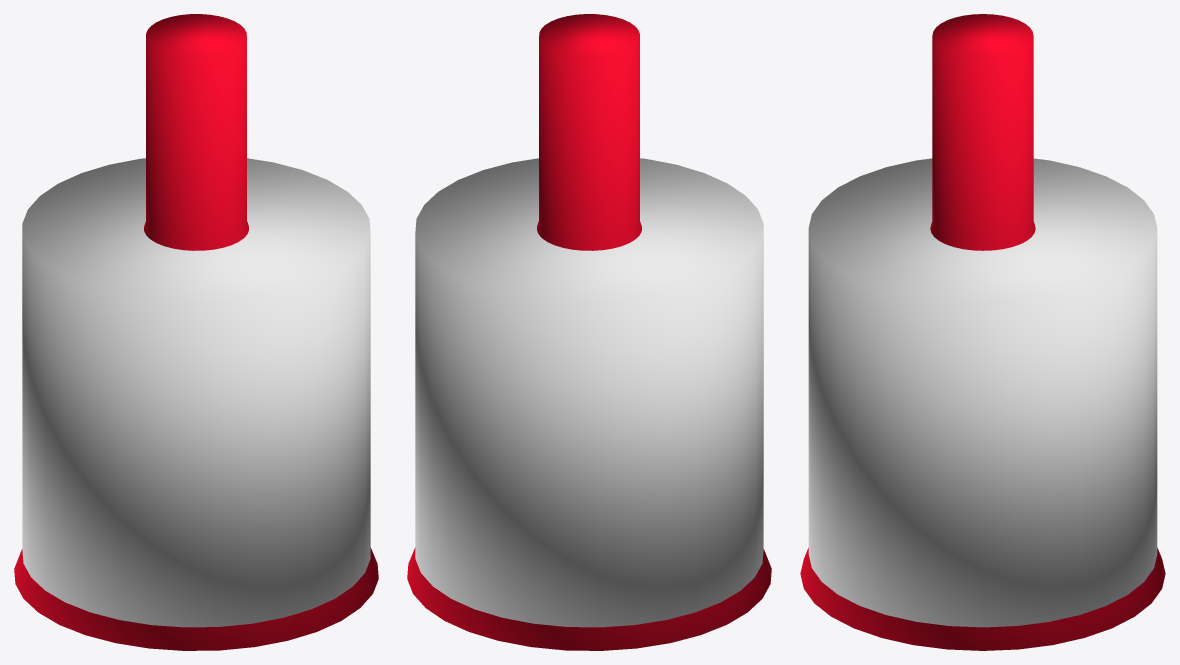
Rendered from Kolbi.fbx.
The picture shows the model from 3 angles, left to right: view 1: azimuth 30°, elevation 25°; view 2: azimuth 150°, elevation 25°; view 3: azimuth 270°, elevation 25°; orthographic projection.
Parts seen in each view (by area): view 1: Kolba, Kolba2; view 2: Kolba, Kolba2; view 3: Kolba, Kolba2.
Part boxes in pixels (x1,y1,x2,y2): Kolba: (22, 158, 370, 627); Kolba2: (14, 14, 378, 650); Kolba: (415, 158, 763, 627); Kolba2: (407, 14, 771, 650); Kolba: (808, 158, 1157, 627); Kolba2: (800, 14, 1165, 650).
Bounding box in the file's own units: 89 × 145 × 89.
